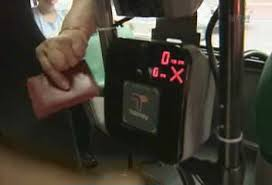terminal: (101, 35, 217, 171)
